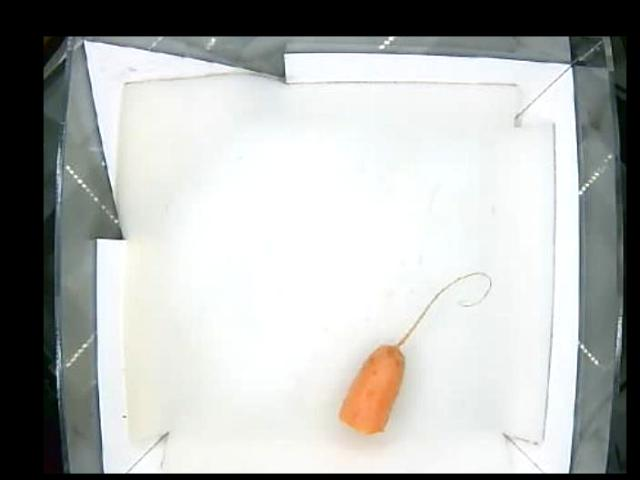Carrot: (340, 346, 403, 428)
